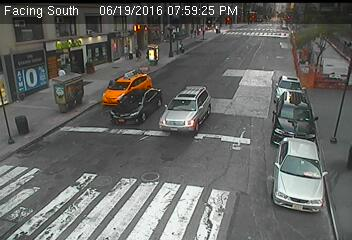neg: (28, 144, 66, 195), (163, 178, 190, 215), (143, 93, 170, 129), (271, 49, 298, 85), (122, 157, 148, 193), (19, 56, 45, 91), (110, 36, 136, 71), (281, 147, 306, 181), (214, 145, 239, 178), (227, 74, 250, 105), (249, 192, 272, 222), (153, 54, 176, 84), (66, 64, 88, 94), (74, 154, 95, 181), (311, 107, 331, 132), (276, 106, 295, 130), (101, 73, 119, 97), (189, 89, 206, 111), (241, 38, 256, 57), (198, 29, 210, 46)
